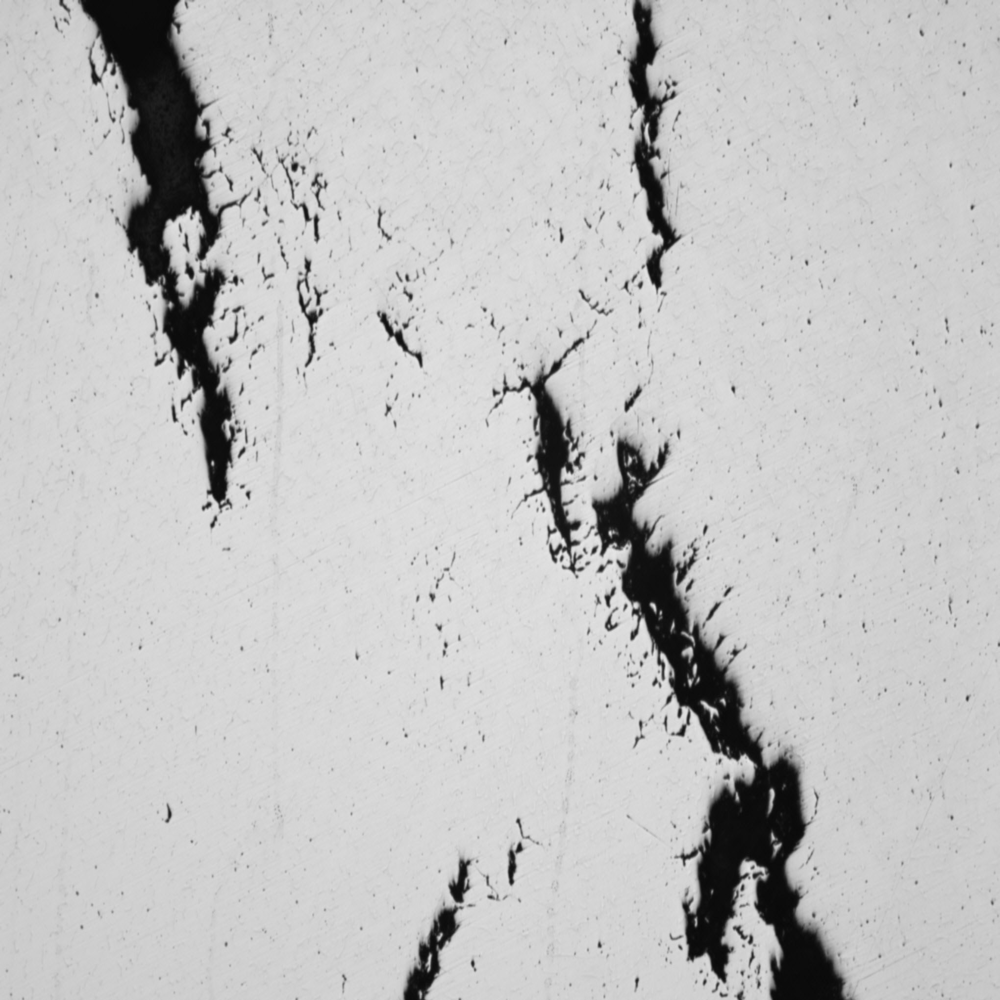crack: (486, 330, 859, 1000), (71, 1, 304, 526), (600, 6, 711, 302), (377, 820, 522, 1000)
